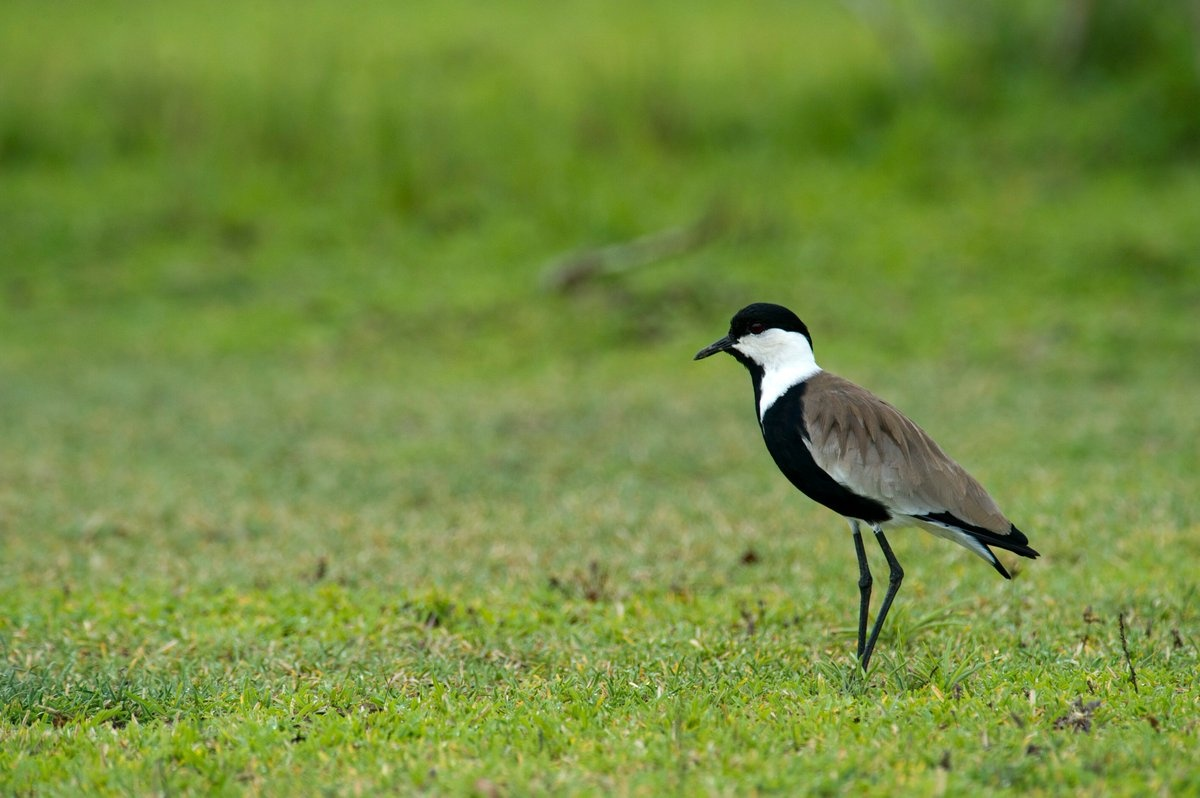bird: (688, 300, 1063, 688)
